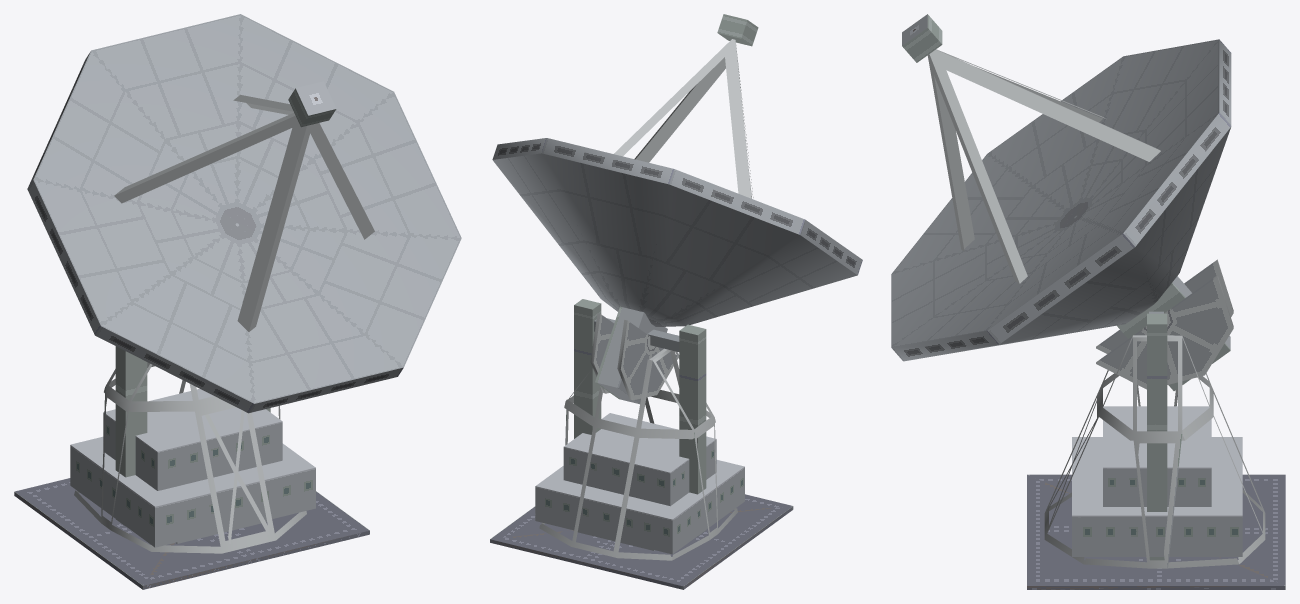
File: 02d5_Satellite_Dish.glb
The picture shows the model from 3 angles, left to right: view 1: azimuth 30°, elevation 25°; view 2: azimuth 150°, elevation 25°; view 3: azimuth 270°, elevation 25°; orthographic projection. The views are drawn at different scales.
Parts seen in each view (by area): view 1: part_1, part_0; view 2: part_1, part_0; view 3: part_1, part_0.
Part boxes in pixels (box(x1,y1,x2,y2)): part_1: box(27, 14, 461, 413); part_0: box(14, 346, 369, 589); part_1: box(492, 14, 862, 404); part_0: box(490, 299, 793, 589); part_1: box(891, 14, 1233, 390); part_0: box(1027, 313, 1285, 589).
Size of the model in its own units: 38.51 by 52.31 by 36.31.
2 materials, 2 textured.
